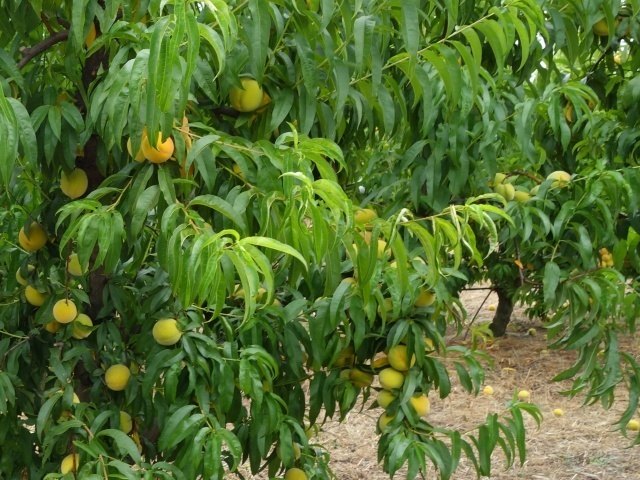peach: (224, 73, 265, 116), (55, 164, 91, 201), (138, 130, 176, 164), (15, 219, 51, 252), (148, 315, 184, 348), (385, 341, 419, 375), (123, 129, 152, 168), (489, 167, 519, 203), (103, 361, 132, 393), (23, 276, 51, 307), (352, 203, 381, 232), (377, 364, 405, 394), (414, 283, 440, 315), (51, 295, 78, 325), (348, 364, 376, 392), (69, 313, 96, 342), (12, 263, 39, 291), (64, 251, 90, 279), (407, 389, 431, 419), (544, 166, 573, 190), (58, 453, 85, 478), (378, 408, 401, 436), (371, 240, 400, 262), (374, 387, 399, 412), (336, 362, 359, 386), (281, 465, 310, 479)
